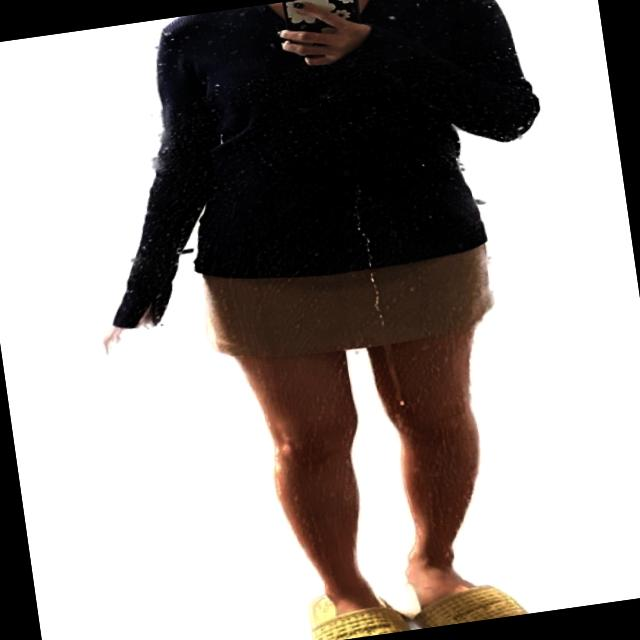cardigan: (70, 0, 565, 331)
skirt: (202, 230, 492, 367)
